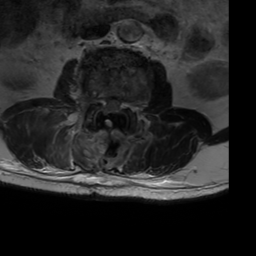CCS_severe_stenosis: (106, 93, 113, 120)
LFS_stenosis: (121, 92, 129, 117)
LLS_normal: (113, 92, 121, 119)
RFS_stenosis: (90, 86, 98, 110)
RLS_normal: (98, 90, 106, 118)
